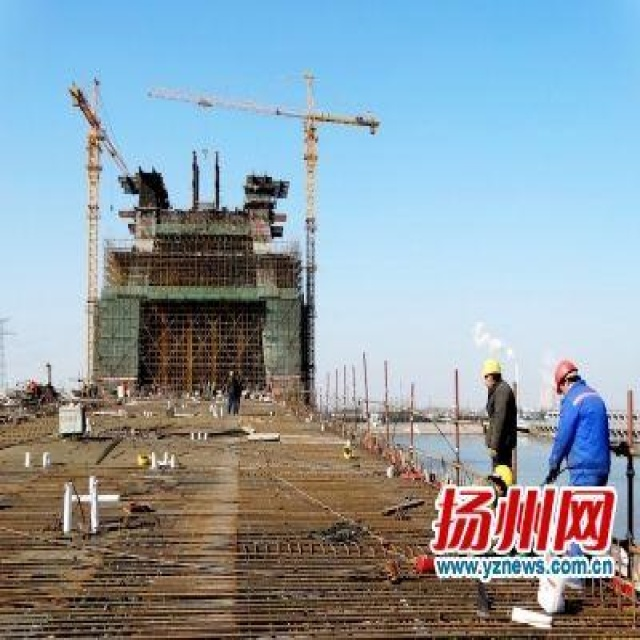Helmet: (540, 347, 590, 400), (475, 350, 510, 392)
Reflective vest: (556, 386, 611, 488), (483, 379, 518, 456)
